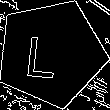L_N: (33, 26, 69, 80)
